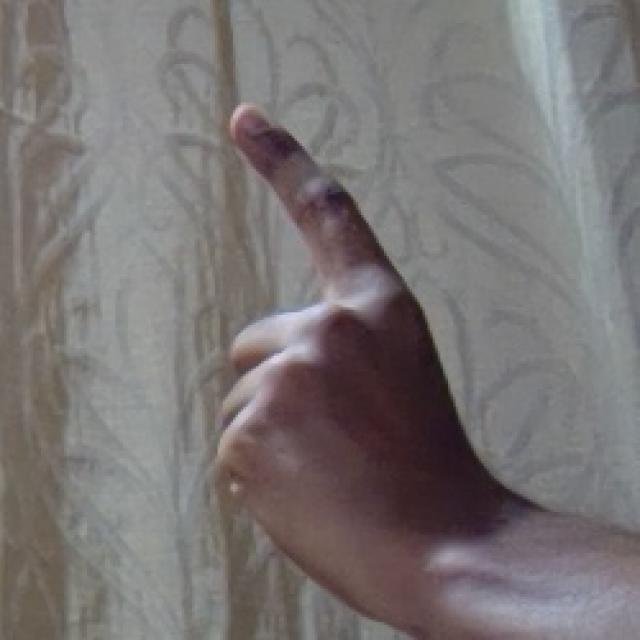Alphabet-I: (160, 96, 472, 599)
